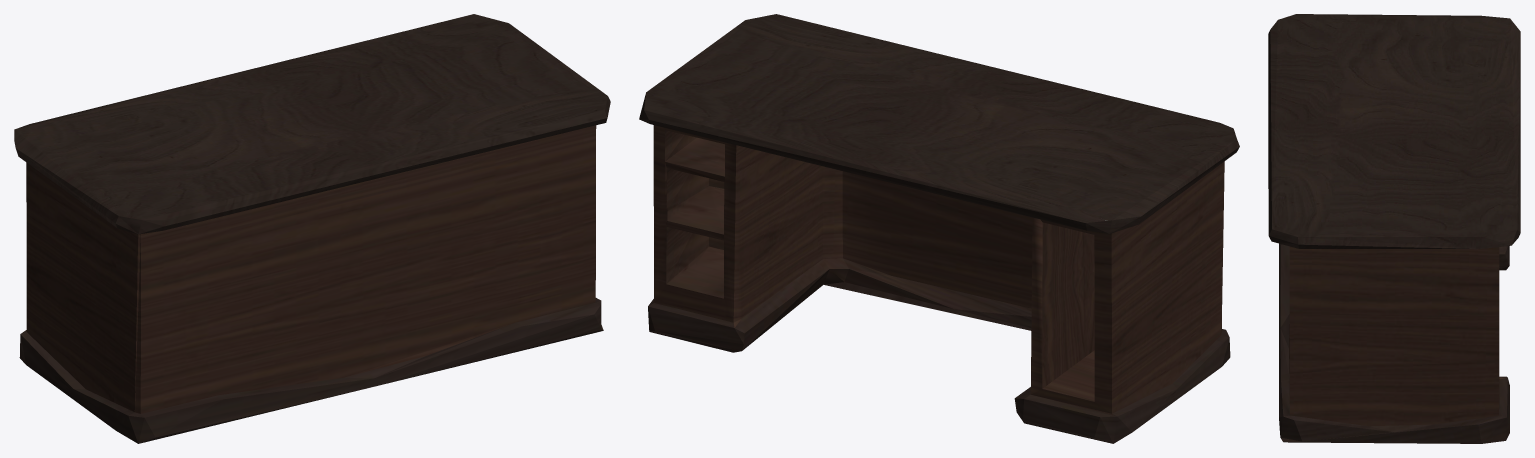
File: guildDesk.glb
3 renders of one model, left to right at view 1: azimuth 30°, elevation 25°; view 2: azimuth 150°, elevation 25°; view 3: azimuth 270°, elevation 25°, orthographic. The views are drawn at different scales.
Visible parts, largest first — view 1: guildDesk; view 2: guildDesk; view 3: guildDesk.
Boxes of the visible parts, x1,y1,x2,y2 form: guildDesk: (14,14,610,443); guildDesk: (639,14,1239,443); guildDesk: (1268,14,1520,443).
Bounding box in the file's own units: 2.66 × 1.16 × 1.25.
Materials: 1 (1 with a texture image).
